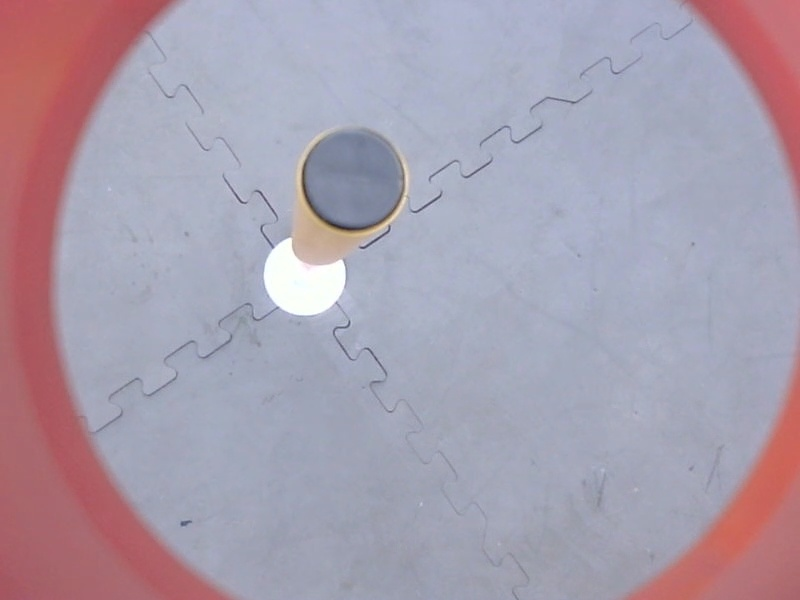tip: (293, 118, 417, 237)
